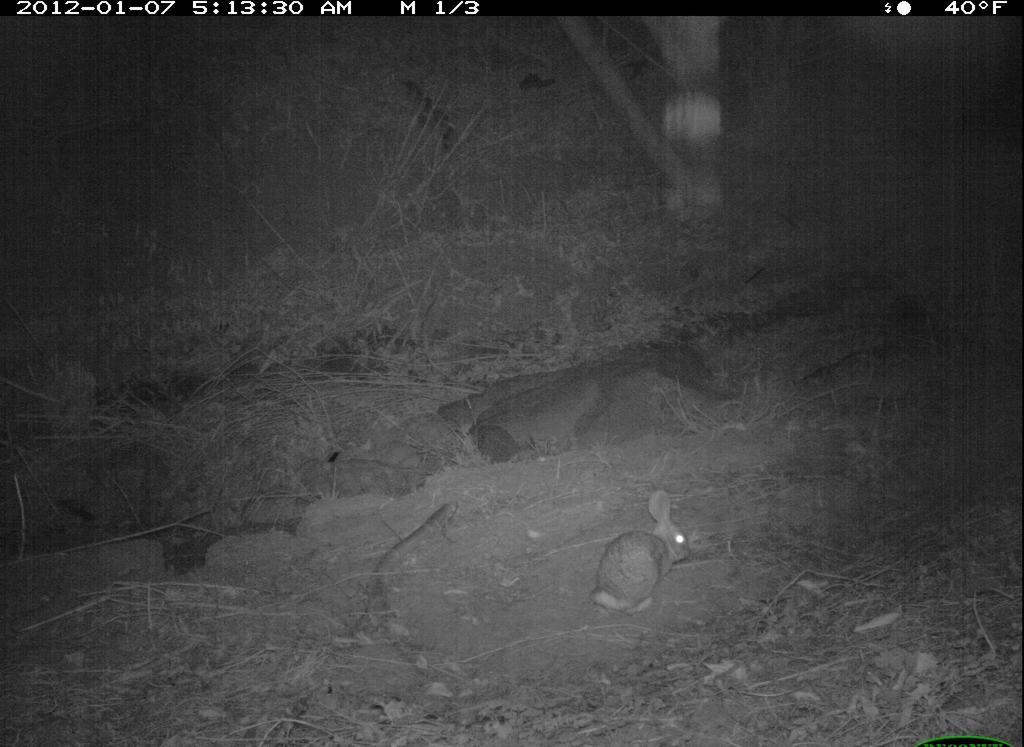rabbit: (583, 481, 702, 630)
